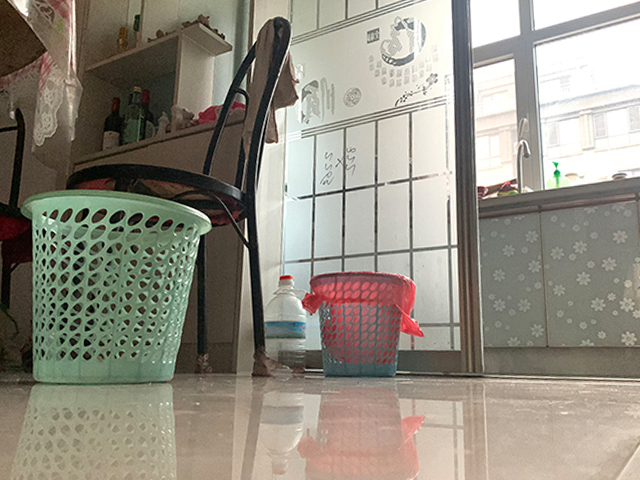cabinet: (479, 175, 640, 380)
stool: (64, 15, 295, 376)
trashcan: (20, 189, 213, 385), (309, 272, 418, 379)
